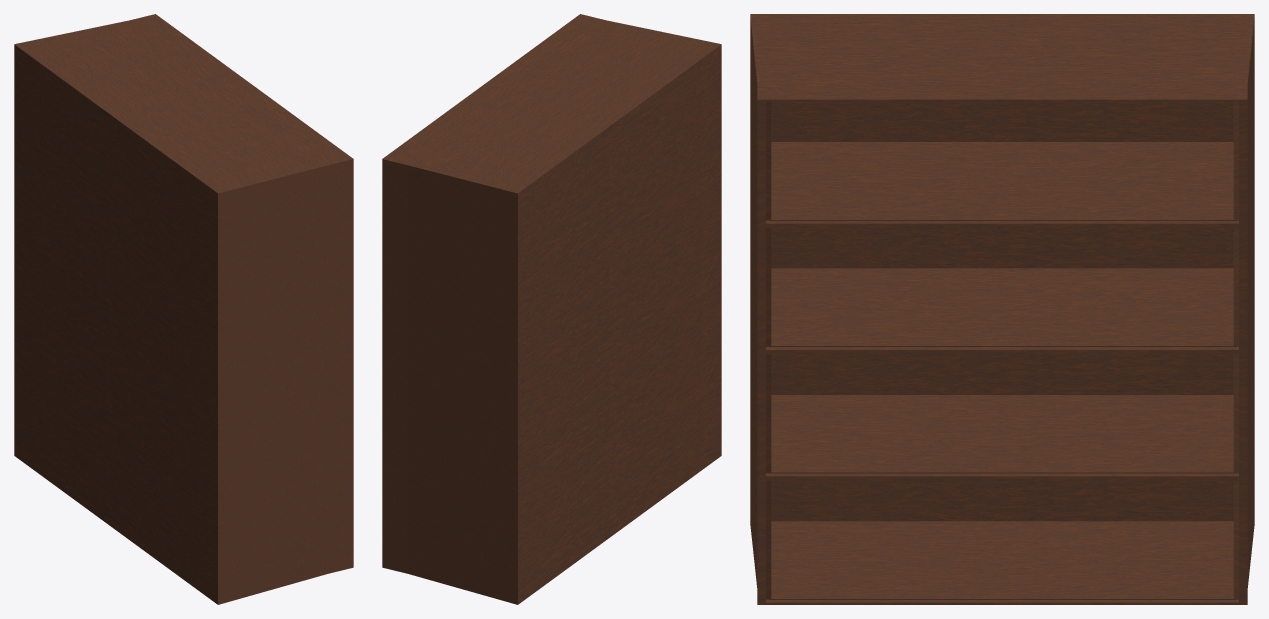
The model's file is Szafka_na_książki.fbx.
The picture shows the model from 3 angles, left to right: view 1: azimuth 30°, elevation 25°; view 2: azimuth 150°, elevation 25°; view 3: azimuth 270°, elevation 25°; orthographic projection. The views are drawn at different scales.
Parts seen in each view (by area): view 1: Cube.001; view 2: Cube.001; view 3: Cube.001.
Part boxes in pixels (x1,y1,x2,y2): Cube.001: (14, 14, 353, 604); Cube.001: (382, 14, 721, 604); Cube.001: (750, 14, 1254, 604).
Bounding box in the file's own units: 142 × 403 × 362.
1 material, 1 textured.
